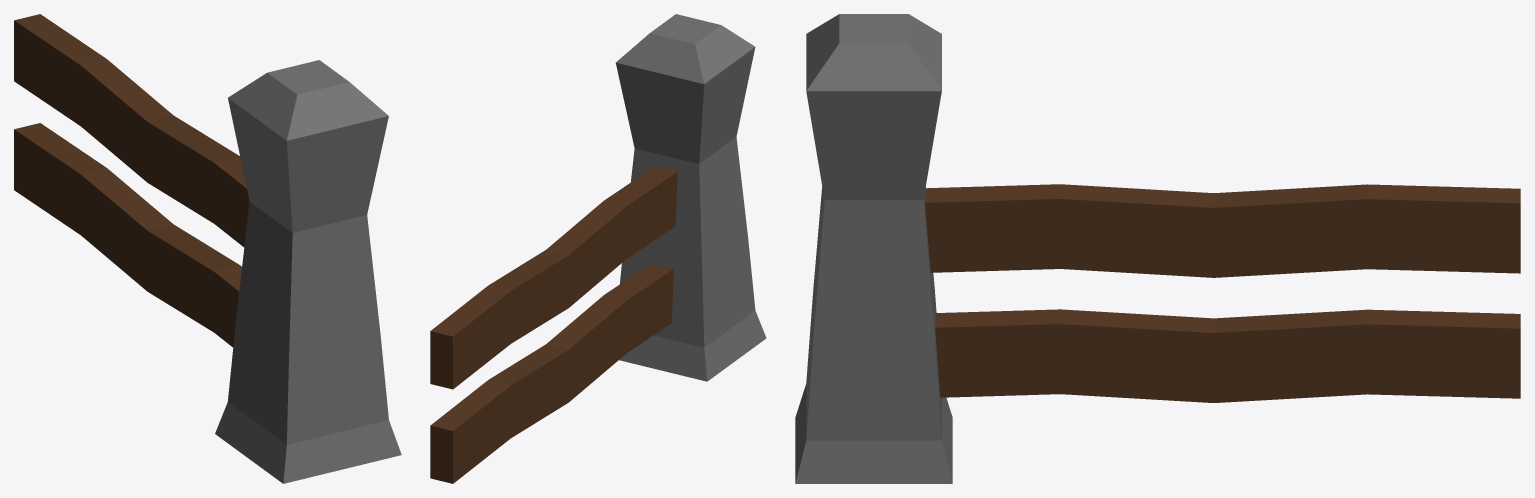
The model's file is fencepartial.fbx.
The picture shows the model from 3 angles, left to right: view 1: azimuth 30°, elevation 25°; view 2: azimuth 150°, elevation 25°; view 3: azimuth 270°, elevation 25°; orthographic projection. The views are drawn at different scales.
Visible parts, largest first — view 1: Cube.003; view 2: Cube.003; view 3: Cube.003.
Boxes of the visible parts, x1,y1,x2,y2 form: Cube.003: (14, 14, 401, 483); Cube.003: (430, 14, 766, 483); Cube.003: (795, 14, 1520, 483).
Size of the model in its own units: 20.69 by 61.25 by 95.37.
